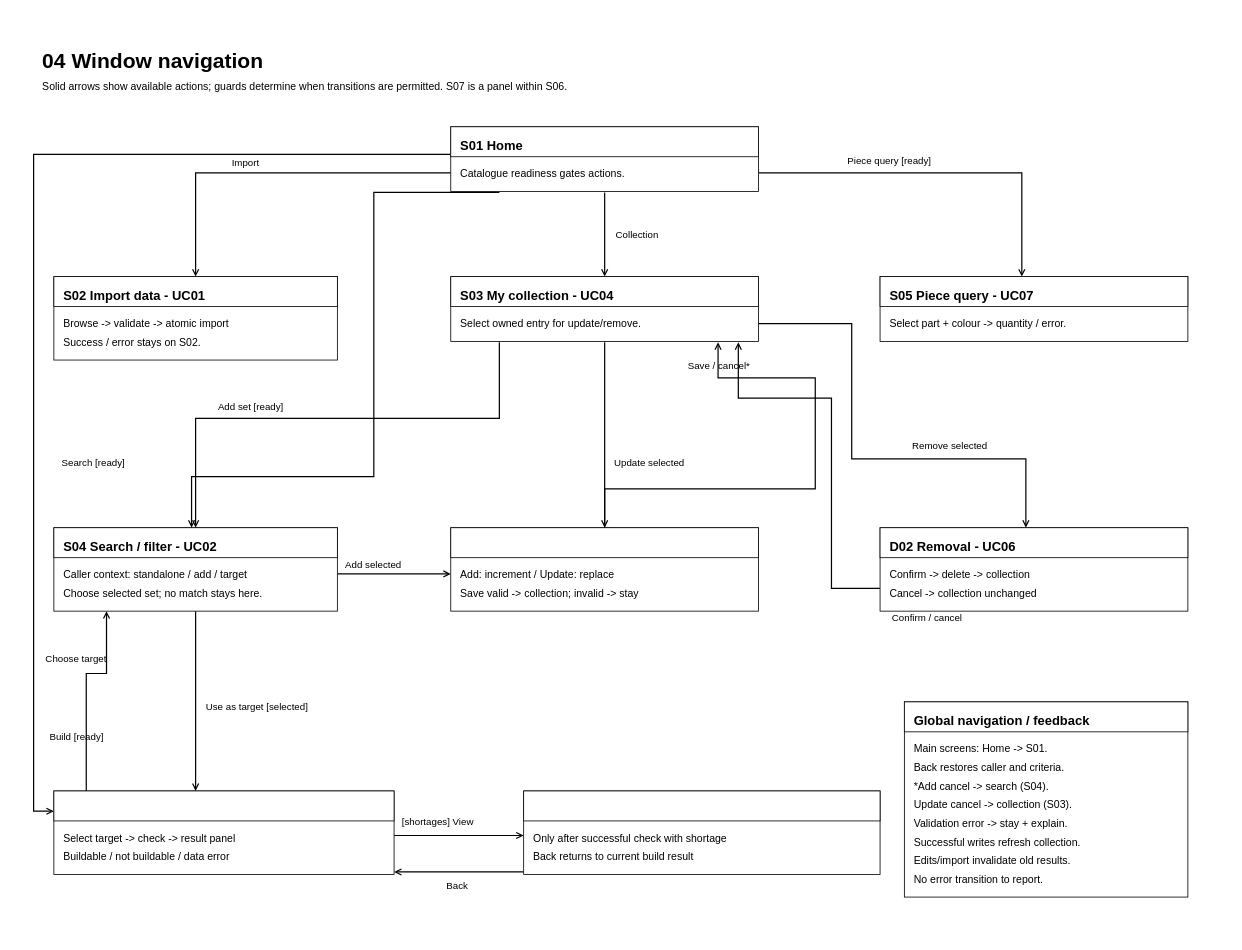
This 1242x950 diagram has some shape labels left out. The shapes that lost their labels are listed below. From the top down, each one's box as (x1, y1, x2, y2) in pixels, then its label:
(450, 527, 759, 558): D01 Quantity - UC03 / UC05
(53, 790, 394, 821): S06 + S07 Build checker - UC08
(523, 790, 880, 821): S08 Missing report - UC09
